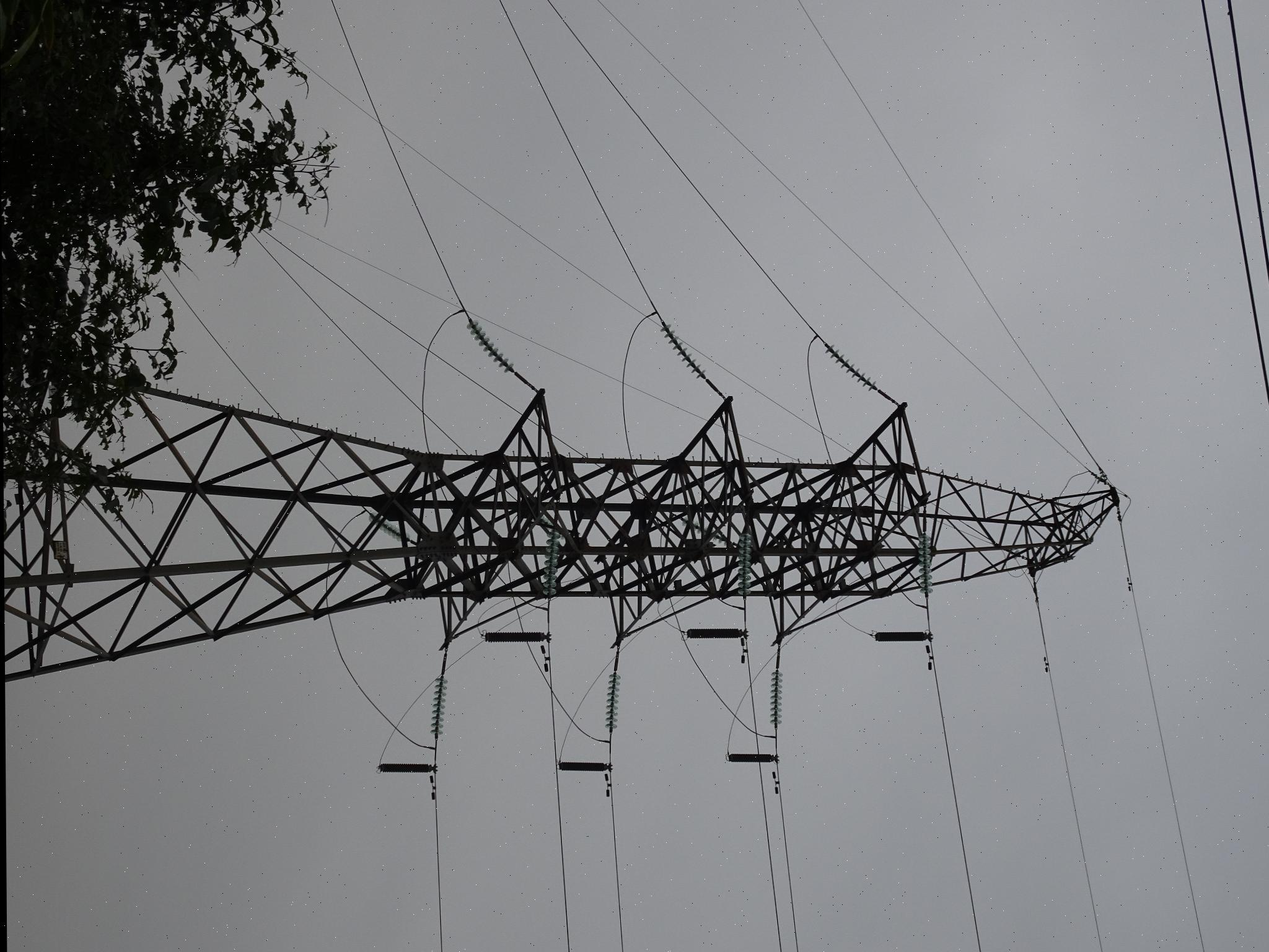tower: (257, 0, 627, 817)
